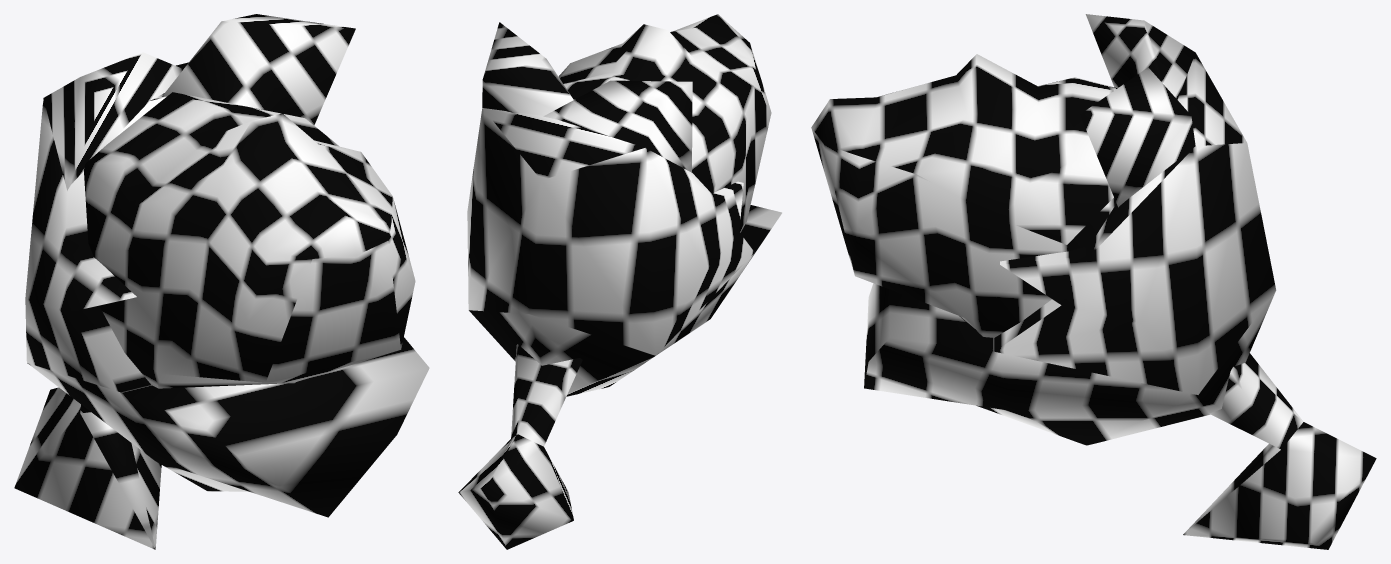
Rendered from infaunhufe12.dae.
3 views of the same model, side by side, from view 1: azimuth 30°, elevation 25°; view 2: azimuth 150°, elevation 25°; view 3: azimuth 270°, elevation 25° (orthographic). The views are drawn at different scales.
Visible parts, largest first — view 1: face; view 2: face; view 3: face.
Part boxes in pixels (<box>): face: <box>14,14,429,549</box>; face: <box>458,14,781,549</box>; face: <box>811,14,1376,549</box>.
Bounding box in the file's own units: 0.9928 × 1.72 × 1.69.
1 material, 1 textured.
